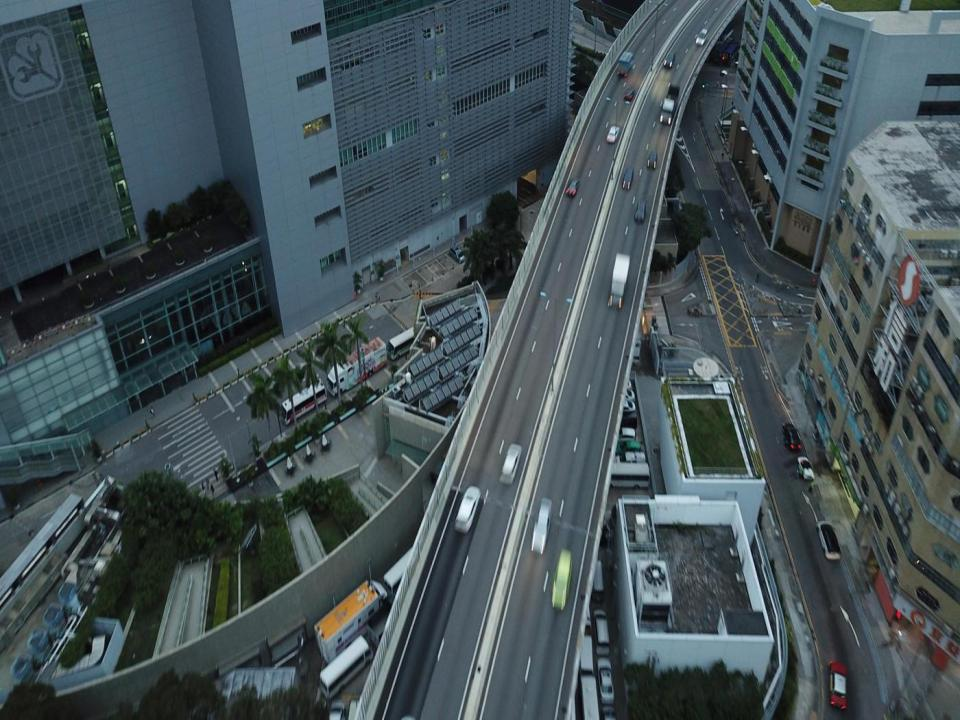bus: (313, 634, 376, 699), (276, 383, 326, 424), (384, 324, 416, 354)
car: (552, 549, 574, 614), (454, 485, 480, 536), (826, 658, 850, 713), (498, 441, 524, 486), (531, 499, 553, 552), (594, 655, 616, 705), (816, 521, 843, 561), (593, 607, 611, 655), (610, 452, 645, 474), (609, 442, 642, 462), (797, 454, 818, 485), (611, 413, 638, 436), (782, 422, 800, 452), (448, 243, 468, 265), (613, 400, 636, 419), (610, 426, 635, 443), (614, 387, 634, 406), (633, 198, 647, 225), (564, 176, 579, 198), (621, 165, 634, 189), (606, 124, 619, 144), (662, 50, 676, 68), (696, 27, 708, 46), (623, 86, 635, 103), (646, 152, 658, 168)
truck: (310, 576, 389, 664), (318, 346, 381, 391), (607, 252, 631, 309), (617, 49, 636, 76)
van: (605, 462, 651, 491), (660, 81, 682, 127)
